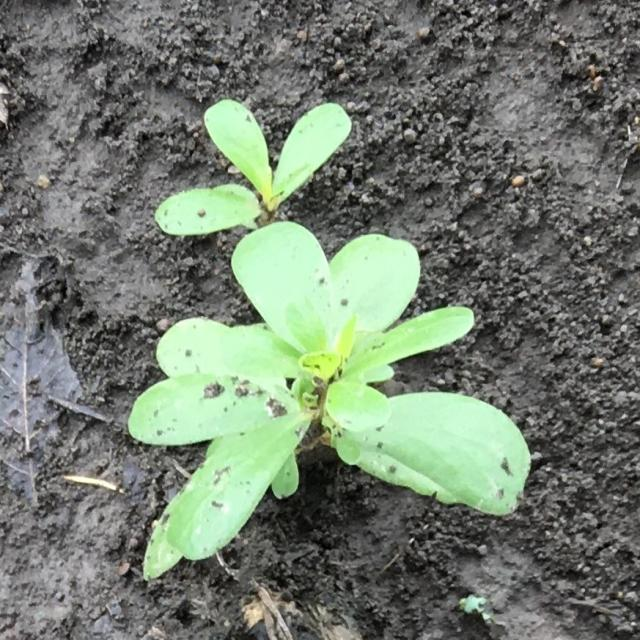Purslane: (128, 99, 533, 582)
